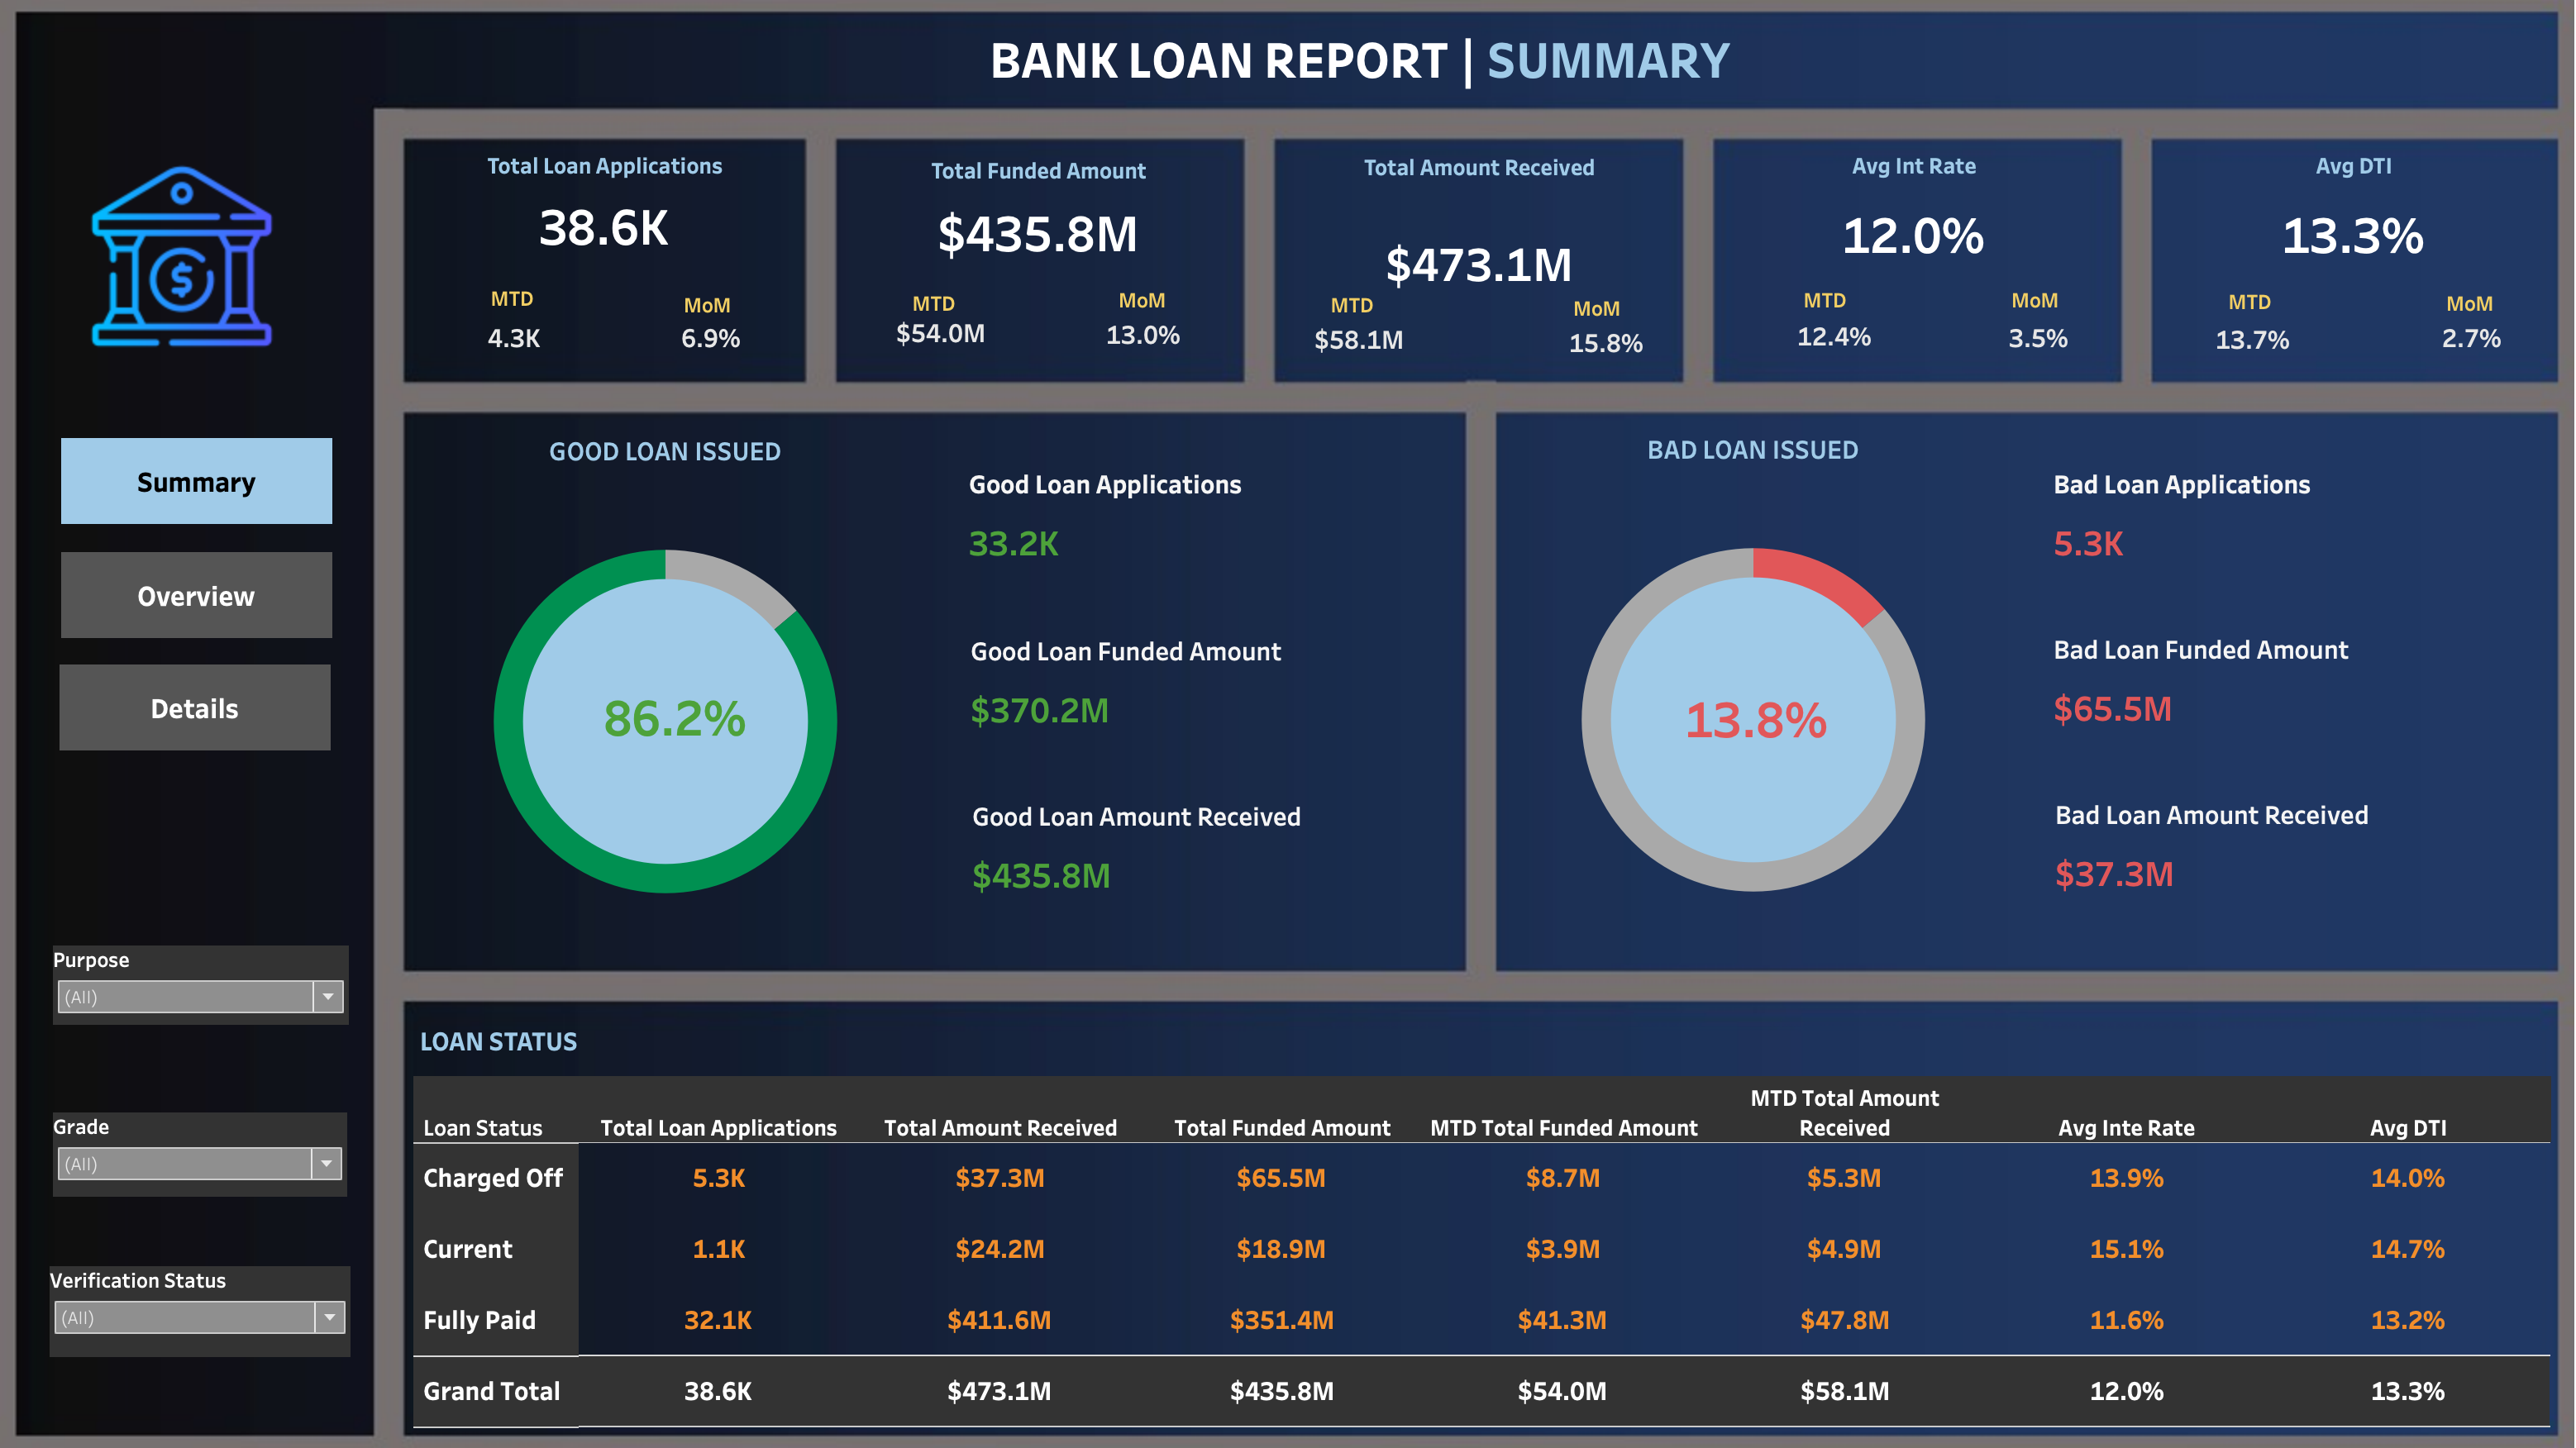

What the dashboard file says about the page in this screenshot:
{"tool":"tableau","page":{"name":"SUMMARY","canvas":[1600,900],"ordinal":2},"visuals":[{"type":"image","param":"/Users/akhilnashaboina/Documents/Bank Loan Project/Tableau Background 1.jpg","box":[8,8,1584,884]},{"type":"text","box":[617,27,454,40]},{"type":"worksheet","title":"Total Loan Applications","mark":"Automatic","box":[268,99,238,67]},{"type":"worksheet","title":"Avg Int Rate","mark":"Automatic","box":[1060,99,238,76]},{"type":"worksheet","title":"Avg DTI","mark":"Automatic","box":[1327,99,236,76]},{"type":"worksheet","title":"Total Amount Received","mark":"Automatic","box":[797,100,238,94]},{"type":"worksheet","title":"Total Funded Amount","mark":"Automatic","box":[531,102,237,68]},{"type":"image","param":"/Users/akhilnashaboina/Documents/Bank Loan Project/9331464.png","box":[59,105,144,124]},{"type":"text","box":[301,177,60,30]},{"type":"text","box":[1095,178,60,30]},{"type":"text","box":[1352,179,60,30]},{"type":"text","box":[556,180,60,30]},{"type":"text","box":[685,180,54,27]},{"type":"text","box":[1225,180,54,27]},{"type":"text","box":[809,181,60,30]},{"type":"text","box":[1488,182,54,27]},{"type":"text","box":[422,183,54,27]},{"type":"text","box":[960,185,54,27]},{"type":"worksheet","title":"MTD Total Funded Amount","mark":"Automatic","box":[553,193,76,42]},{"type":"worksheet","title":"MoM Total Funded Amount","mark":"Automatic","box":[678,193,69,44]},{"type":"worksheet","title":"MTD Avg Int Rate","mark":"Automatic","box":[1099,196,64,39]},{"type":"worksheet","title":"MTD Total Loan Applications","mark":"Automatic","box":[299,197,67,39]},{"type":"worksheet","title":"MTD Avg DTI","mark":"Automatic","box":[1356,197,56,42]},{"type":"worksheet","title":"MoM Avg Int Rate","mark":"Automatic","box":[1220,198,68,37]},{"type":"worksheet","title":"MTD Total Amount Received","mark":"Automatic","box":[808,199,71,37]},{"type":"worksheet","title":"MoM Total Amount Received","mark":"Automatic","box":[955,200,76,39]},{"type":"worksheet","title":"MoM Avg DTI","mark":"Automatic","box":[1488,200,57,34]},{"type":"worksheet","title":"MoM Loan Applications","mark":"Automatic","box":[427,202,49,29]},{"type":"worksheet","title":"Bad Loan Issued","mark":"Pie","rows":["Calculation_2521452878983532566","Calculation_2521452878983532566"],"box":[930,269,303,321]},{"type":"worksheet","title":"Good Loan Issued","mark":"Pie","rows":["Calculation_2521452878983532566","Calculation_2521452878983532566"],"box":[272,270,303,321]},{"type":"dashboard-object","box":[58,277,164,52]},{"type":"worksheet","title":"Good Loan Applications","mark":"Automatic","box":[599,286,300,75]},{"type":"worksheet","title":"Bad Loan Applications","mark":"Automatic","box":[1255,286,300,75]},{"type":"dashboard-object","box":[58,346,164,52]},{"type":"worksheet","title":"Bad Loan Funded Amount","mark":"Automatic","box":[1255,386,300,75]},{"type":"worksheet","title":"Good Loan Funded Amount","mark":"Automatic","box":[600,387,300,75]},{"type":"worksheet","title":"Good Loan Application % ","mark":"Automatic","box":[377,409,106,73]},{"type":"dashboard-object","box":[57,414,164,52]},{"type":"worksheet","title":"Bad Loan Application %","mark":"Automatic","box":[1035,414,98,66]},{"type":"worksheet","title":"Bad Loan Amount Received","mark":"Automatic","box":[1256,486,300,75]},{"type":"worksheet","title":"Good Loan Amount Received","mark":"Automatic","box":[601,487,300,75]},{"type":"filter","title":"Good Loan Issued","param":"[federated.0kf2hzg1sb7jsc10xx9gb1ky2994].[none:purpose:nk]","box":[53,584,179,48]},{"type":"worksheet","title":"Loan Status","mark":"Automatic","rows":["loan_status"],"box":[271,627,1293,249]},{"type":"filter","title":"Good Loan Issued","param":"[federated.0kf2hzg1sb7jsc10xx9gb1ky2994].[none:grade:nk]","box":[53,685,178,51]},{"type":"filter","title":"Good Loan Issued","param":"[federated.0kf2hzg1sb7jsc10xx9gb1ky2994].[none:verification_status:nk]","box":[51,778,182,55]}]}

Visuals, with their boxes in screenshot pixels (x1, y1, x2, y2), scaled from the page's 1600x900 canvas onto the 2576x1448 screenshot:
image: (left=13, top=13, right=2563, bottom=1435)
text: (left=994, top=44, right=1724, bottom=107)
"Total Loan Applications" worksheet: (left=432, top=160, right=814, bottom=267)
"Avg Int Rate" worksheet: (left=1706, top=160, right=2090, bottom=282)
"Avg DTI" worksheet: (left=2136, top=160, right=2516, bottom=282)
"Total Amount Received" worksheet: (left=1283, top=161, right=1667, bottom=312)
"Total Funded Amount" worksheet: (left=855, top=164, right=1237, bottom=274)
image: (left=95, top=169, right=327, bottom=369)
text: (left=484, top=285, right=581, bottom=333)
text: (left=1763, top=287, right=1859, bottom=335)
text: (left=2177, top=288, right=2273, bottom=336)
text: (left=895, top=289, right=992, bottom=338)
text: (left=1103, top=289, right=1190, bottom=333)
text: (left=1973, top=289, right=2059, bottom=333)
text: (left=1303, top=291, right=1399, bottom=340)
text: (left=2396, top=293, right=2483, bottom=336)
text: (left=680, top=294, right=766, bottom=338)
text: (left=1546, top=298, right=1633, bottom=341)
"MTD Total Funded Amount" worksheet: (left=890, top=311, right=1013, bottom=378)
"MoM Total Funded Amount" worksheet: (left=1091, top=311, right=1203, bottom=381)
"MTD Avg Int Rate" worksheet: (left=1769, top=316, right=1872, bottom=378)
"MTD Total Loan Applications" worksheet: (left=481, top=317, right=589, bottom=379)
"MTD Avg DTI" worksheet: (left=2183, top=317, right=2273, bottom=384)
"MoM Avg Int Rate" worksheet: (left=1964, top=318, right=2073, bottom=378)
"MTD Total Amount Received" worksheet: (left=1301, top=320, right=1415, bottom=379)
"MoM Total Amount Received" worksheet: (left=1538, top=322, right=1660, bottom=384)
"MoM Avg DTI" worksheet: (left=2396, top=322, right=2488, bottom=377)
"MoM Loan Applications" worksheet: (left=688, top=325, right=766, bottom=372)
"Bad Loan Issued" worksheet (Pie marks): (left=1497, top=433, right=1985, bottom=950)
"Good Loan Issued" worksheet (Pie marks): (left=438, top=435, right=926, bottom=950)
dashboard-object: (left=93, top=445, right=357, bottom=529)
"Good Loan Applications" worksheet: (left=965, top=460, right=1448, bottom=581)
"Bad Loan Applications" worksheet: (left=2020, top=460, right=2503, bottom=581)
dashboard-object: (left=93, top=557, right=357, bottom=641)
"Bad Loan Funded Amount" worksheet: (left=2020, top=621, right=2503, bottom=741)
"Good Loan Funded Amount" worksheet: (left=966, top=622, right=1449, bottom=743)
"Good Loan Application % " worksheet: (left=607, top=658, right=778, bottom=775)
dashboard-object: (left=92, top=666, right=355, bottom=750)
"Bad Loan Application %" worksheet: (left=1667, top=666, right=1825, bottom=772)
"Bad Loan Amount Received" worksheet: (left=2022, top=782, right=2505, bottom=903)
"Good Loan Amount Received" worksheet: (left=967, top=784, right=1451, bottom=904)
"Good Loan Issued" filter: (left=85, top=940, right=374, bottom=1017)
"Loan Status" worksheet: (left=436, top=1009, right=2518, bottom=1409)
"Good Loan Issued" filter: (left=85, top=1102, right=372, bottom=1184)
"Good Loan Issued" filter: (left=82, top=1252, right=375, bottom=1341)
